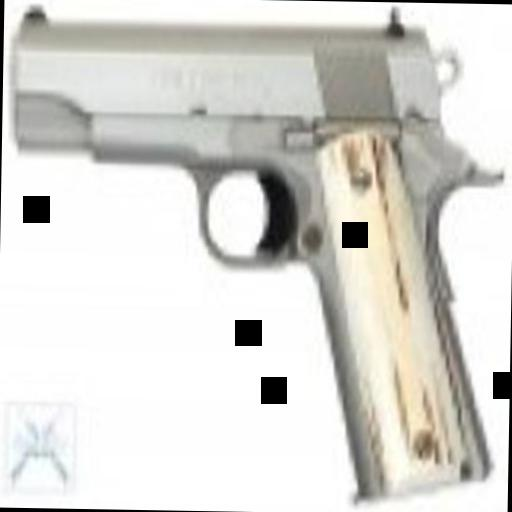Handgun: (0, 0, 502, 502)
